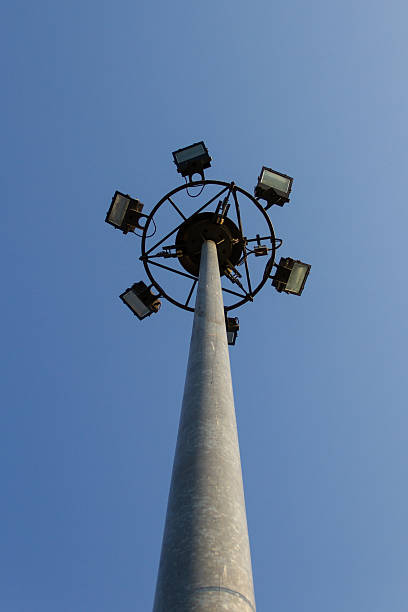light_pole: (150, 240, 267, 612)
